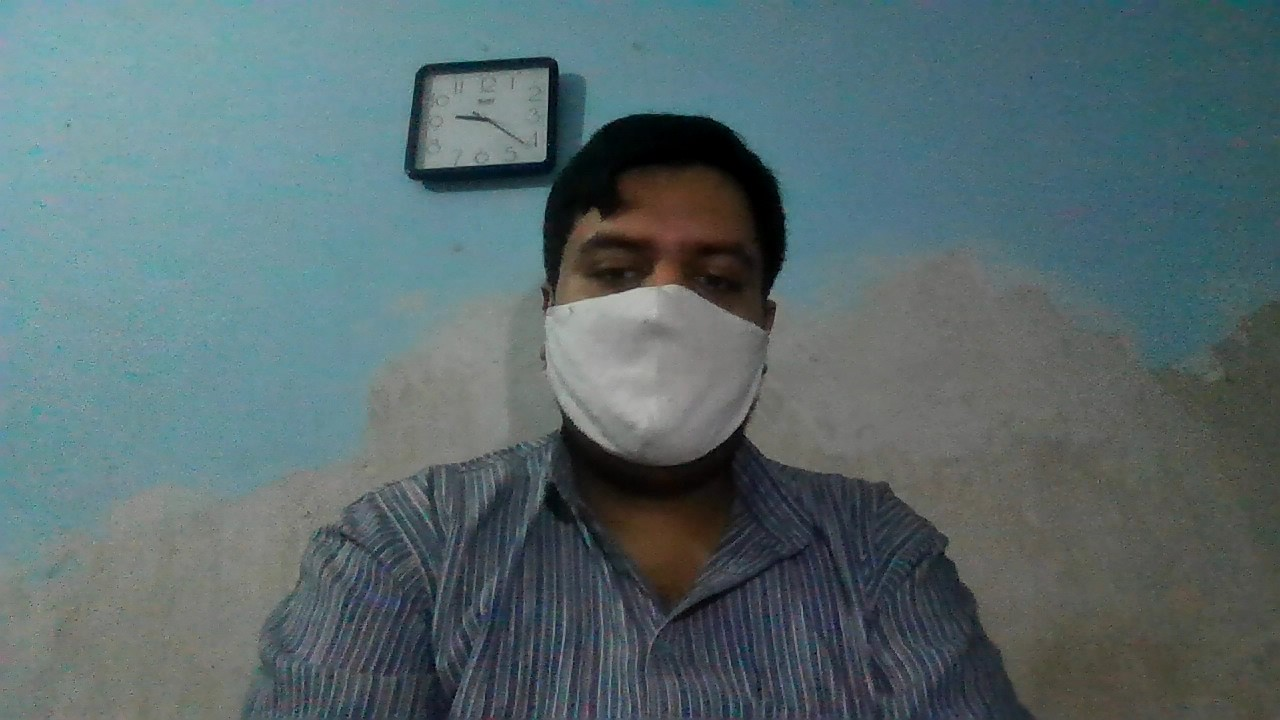Mask: (536, 284, 773, 471)
